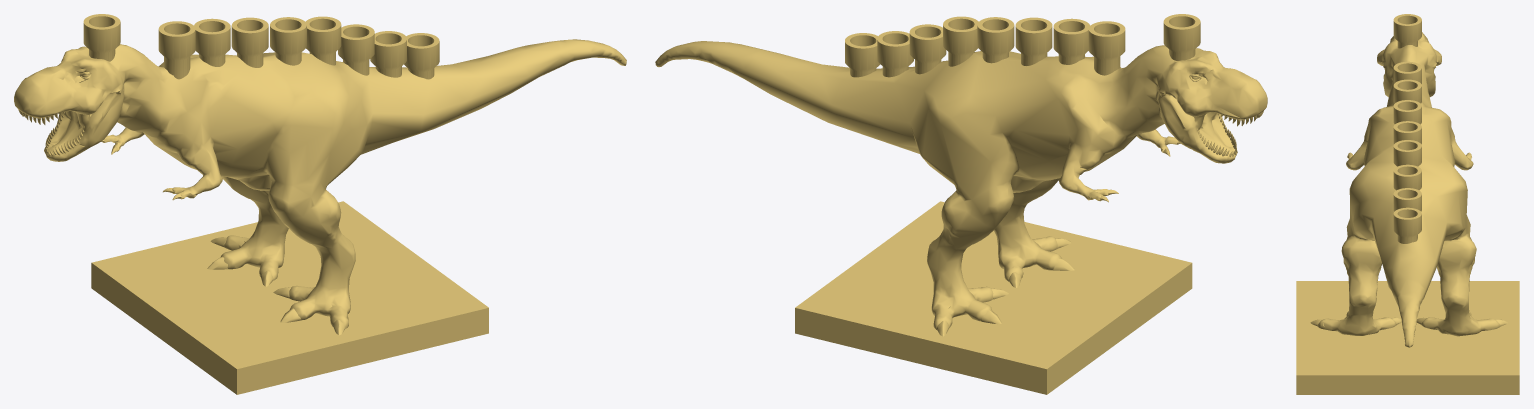
3 renders of one model, left to right at view 1: azimuth 30°, elevation 25°; view 2: azimuth 150°, elevation 25°; view 3: azimuth 270°, elevation 25°, orthographic. The views are drawn at different scales.
Visible parts, largest first — view 1: Geode; view 2: Geode; view 3: Geode.
Boxes of the visible parts, x1,y1,x2,y2 form: Geode: [14, 14, 626, 394]; Geode: [655, 14, 1267, 394]; Geode: [1296, 14, 1519, 394].
Bounding box in the file's own units: 546 × 289 × 227.
